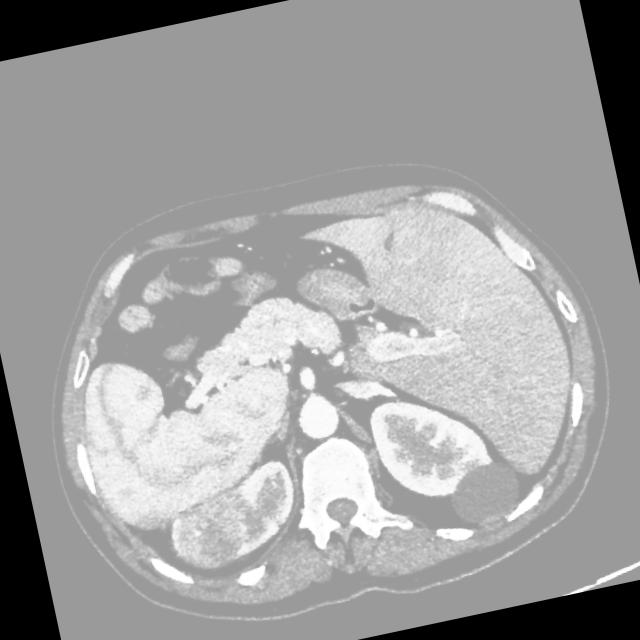TUMOR: (47, 224, 540, 570)
